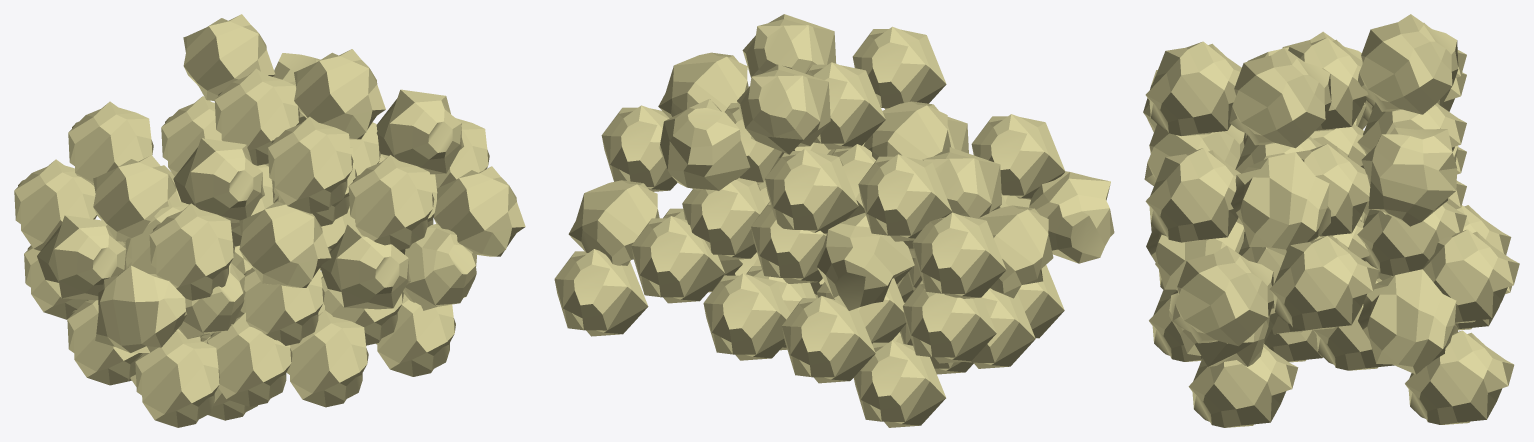
The model's file is pileOr.fbx.
3 renders of one model, left to right at view 1: azimuth 30°, elevation 25°; view 2: azimuth 150°, elevation 25°; view 3: azimuth 270°, elevation 25°, orthographic. The views are drawn at different scales.
Visible parts, largest first — view 1: or50, or24, or42, or46, or34, or38, or14, or27, or48, or44, or40, or31 (+23 smaller); view 2: or49, or2, or33, or41, or20, or8, or37, or7, or45, or6, or29, or34 (+21 smaller); view 3: or48, or14, or49, or16, or40, or15, or41, or42, or50, or8, or30, or29 (+17 smaller).
Part boxes in pixels (x1,y1,x2,y2): or50: [268, 116, 353, 213]; or24: [135, 331, 219, 427]; or42: [348, 155, 434, 250]; or46: [149, 203, 234, 300]; or34: [95, 265, 186, 353]; or38: [239, 201, 331, 287]; or14: [434, 166, 525, 256]; or27: [286, 310, 368, 407]; or48: [294, 49, 385, 139]; or44: [173, 138, 264, 222]; or40: [376, 89, 463, 174]; or31: [37, 215, 127, 300]; or49: [737, 64, 830, 154]; or2: [782, 296, 875, 383]; or33: [912, 212, 1006, 298]; or41: [659, 98, 750, 190]; or20: [817, 213, 914, 310]; or8: [554, 249, 648, 336]; or37: [765, 148, 858, 234]; or7: [703, 273, 790, 360]; or45: [858, 154, 952, 241]; or6: [854, 340, 945, 427]; or29: [631, 216, 724, 303]; or34: [1029, 171, 1114, 263]; or48: [1229, 47, 1331, 148]; or14: [1172, 245, 1273, 346]; or49: [1358, 14, 1458, 114]; or16: [1269, 236, 1379, 330]; or40: [1231, 152, 1330, 255]; or15: [1358, 269, 1457, 374]; or41: [1361, 127, 1457, 226]; or42: [1145, 148, 1240, 242]; or50: [1145, 41, 1241, 136]; or8: [1405, 330, 1514, 424]; or30: [1188, 343, 1298, 427]; or29: [1422, 229, 1519, 323].
Size of the model in its own units: 19.35 by 13.94 by 12.99.
